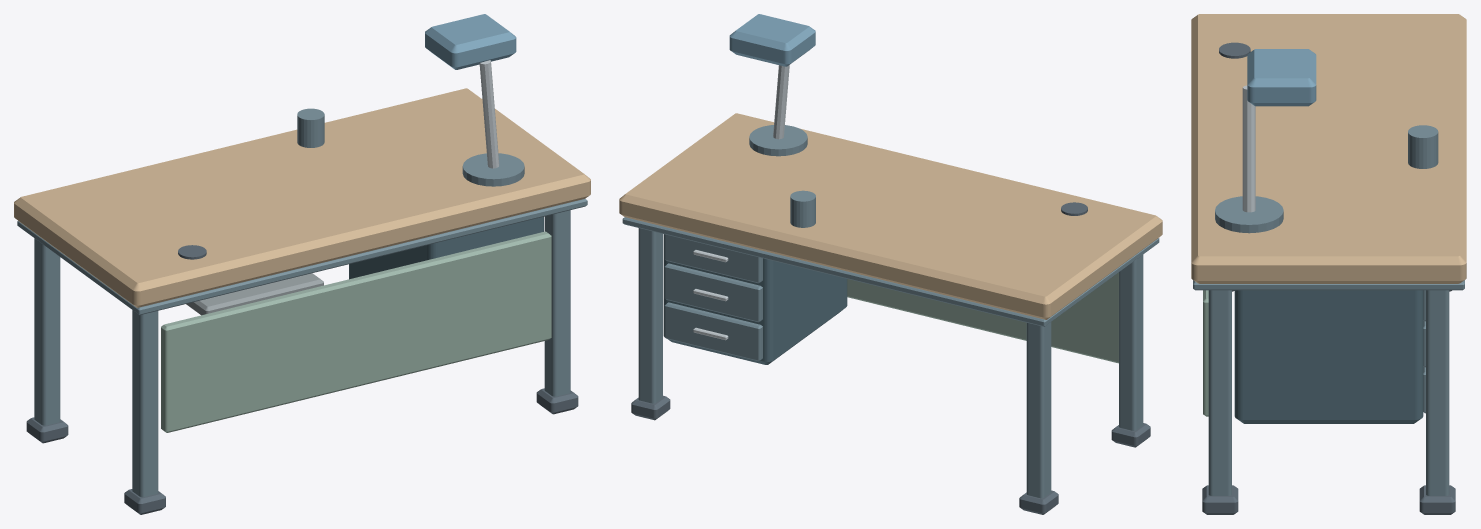
Rendered from guard_office_desk.glb.
The picture shows the model from 3 angles, left to right: view 1: azimuth 30°, elevation 25°; view 2: azimuth 150°, elevation 25°; view 3: azimuth 270°, elevation 25°; orthographic projection. The views are drawn at different scales.
Parts seen in each view (by area): view 1: 000_desktop_rounded, 010_backmodesty_panel, 004_steel_rect_leg, 002_steel_rect_leg, 001_matte_edge_trim, 008_steel_rect_leg, 022_lamp_head, 011_drawer_body, 018_underdesk_cable_tray, 020_lamp_base, 021_desk_lamp_stem, 023_organizer_cup (+3 smaller); view 2: 000_desktop_rounded, 010_backmodesty_panel, 011_drawer_body, 002_steel_rect_leg, 006_steel_rect_leg, 004_steel_rect_leg, 001_matte_edge_trim, 012_drawer_face, 014_drawer_face, 022_lamp_head, 016_drawer_face, 020_lamp_base (+5 smaller); view 3: 000_desktop_rounded, 011_drawer_body, 006_steel_rect_leg, 008_steel_rect_leg, 022_lamp_head, 020_lamp_base, 001_matte_edge_trim, 021_desk_lamp_stem, 023_organizer_cup, 007_rubber_foot, 009_rubber_foot, 010_backmodesty_panel (+1 smaller).
Boxes of the visible parts, x1,y1,x2,y2 form: 000_desktop_rounded: (14,88,590,307); 010_backmodesty_panel: (161,231,551,432); 004_steel_rect_leg: (132,310,158,497); 002_steel_rect_leg: (34,238,60,425); 001_matte_edge_trim: (17,199,587,314); 008_steel_rect_leg: (544,210,570,396); 022_lamp_head: (425,14,516,69); 011_drawer_body: (349,216,543,279); 018_underdesk_cable_tray: (186,273,323,315); 020_lamp_base: (462,153,524,186); 021_desk_lamp_stem: (479,60,499,168); 023_organizer_cup: (297,108,324,147); 000_desktop_rounded: (619,113,1162,319); 010_backmodesty_panel: (847,272,1118,363); 011_drawer_body: (663,234,847,364); 002_steel_rect_leg: (1026,322,1051,498); 006_steel_rect_leg: (638,228,662,403); 004_steel_rect_leg: (1119,255,1143,430); 001_matte_edge_trim: (622,217,1159,326); 012_drawer_face: (664,302,762,361); 014_drawer_face: (664,263,762,322); 022_lamp_head: (729,14,815,66); 016_drawer_face: (664,234,762,283); 020_lamp_base: (749,125,807,156); 000_desktop_rounded: (1191,14,1466,283); 011_drawer_body: (1234,290,1423,423); 006_steel_rect_leg: (1426,290,1449,495); 008_steel_rect_leg: (1208,290,1231,495); 022_lamp_head: (1247,49,1316,106); 020_lamp_base: (1215,196,1283,233); 001_matte_edge_trim: (1193,280,1464,290); 021_desk_lamp_stem: (1242,85,1255,212); 023_organizer_cup: (1408,125,1438,168); 007_rubber_foot: (1419,485,1455,514); 009_rubber_foot: (1202,485,1238,514); 010_backmodesty_panel: (1203,290,1208,416).
Size of the model in its own units: 1.62 by 1.26 by 0.76.
